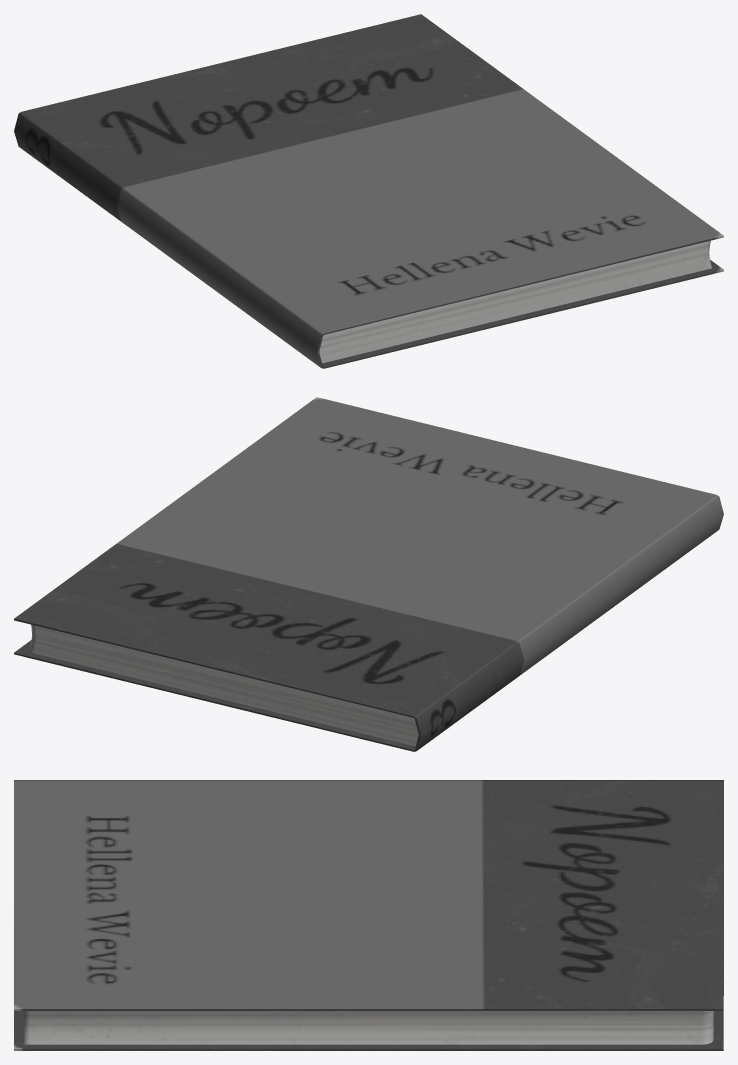
Rendered from SM_BookE.fbx.
The picture shows the model from 3 angles, top to bottom: view 1: azimuth 30°, elevation 25°; view 2: azimuth 150°, elevation 25°; view 3: azimuth 270°, elevation 25°; orthographic projection. The views are drawn at different scales.
Parts seen in each view (by area): view 1: SM_BookE_LOD0; view 2: SM_BookE_LOD0; view 3: SM_BookE_LOD0.
Part boxes in pixels (x1,y1,x2,y2): SM_BookE_LOD0: (14, 14, 723, 368); SM_BookE_LOD0: (14, 397, 723, 751); SM_BookE_LOD0: (14, 780, 723, 1050).
Size of the model in its own units: 19.6 by 25.25 by 1.64.
Materials: 1 (1 with a texture image).
